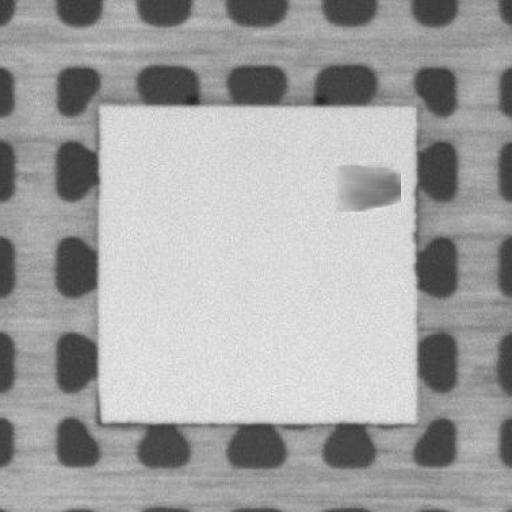DIE_INK: (328, 158, 404, 214)
